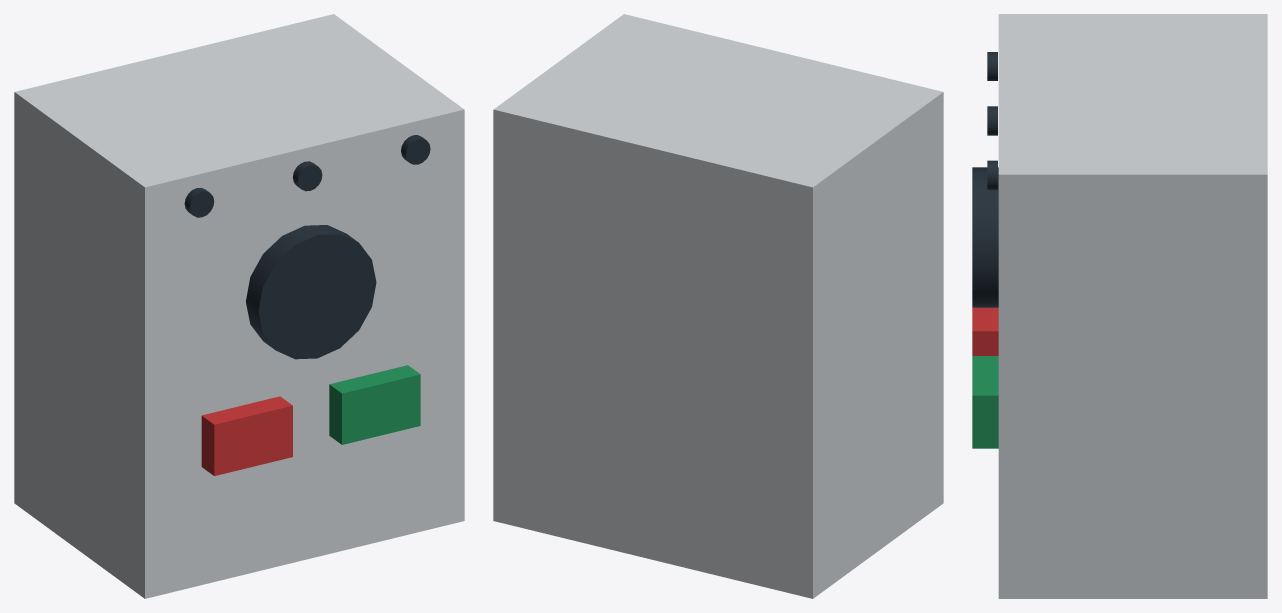
The picture shows the model from 3 angles, left to right: view 1: azimuth 30°, elevation 25°; view 2: azimuth 150°, elevation 25°; view 3: azimuth 270°, elevation 25°; orthographic projection. The views are drawn at different scales.
Visible parts, largest first — view 1: 马达保护器; view 2: 马达保护器; view 3: 马达保护器.
Boxes of the visible parts, x1=… form: 马达保护器: x1=14, y1=14, x2=464, y2=598; 马达保护器: x1=493, y1=14, x2=943, y2=598; 马达保护器: x1=972, y1=14, x2=1267, y2=598.
Bounding box in the file's own units: 0.65 × 0.8 × 0.505.
